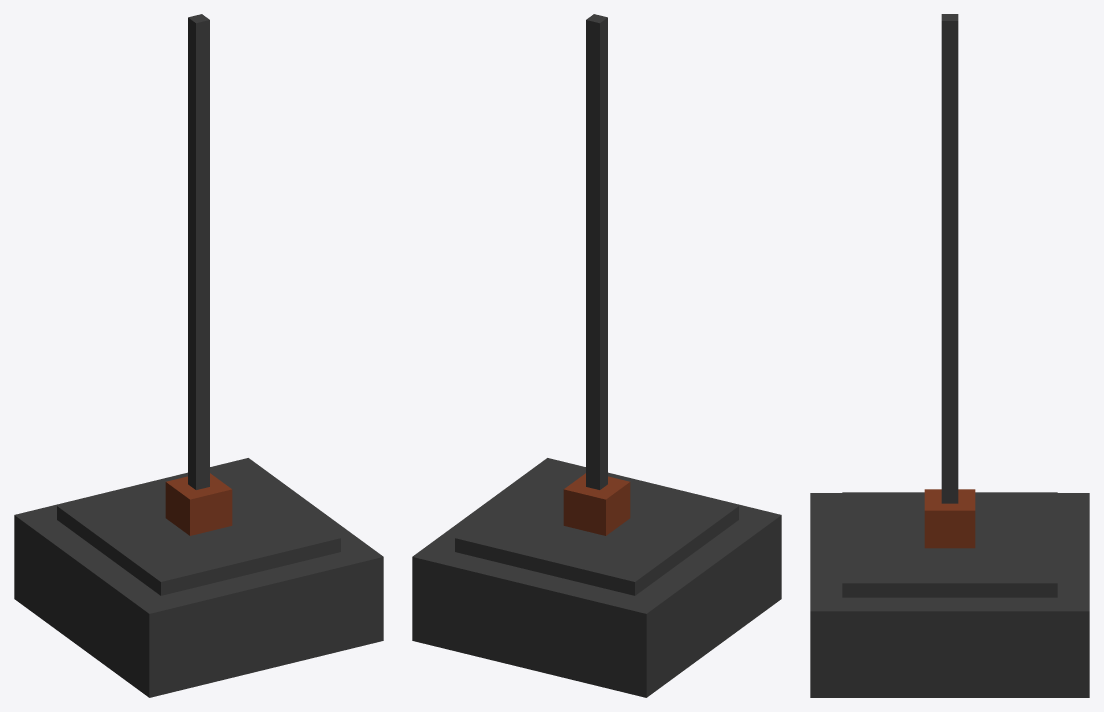
File: ceilingLamp.fbx
The picture shows the model from 3 angles, left to right: view 1: azimuth 30°, elevation 25°; view 2: azimuth 150°, elevation 25°; view 3: azimuth 270°, elevation 25°; orthographic projection. The views are drawn at different scales.
Visible parts, largest first — view 1: ceilingLamp1; view 2: ceilingLamp1; view 3: ceilingLamp1.
Part boxes in pixels (x1,y1,x2,y2): ceilingLamp1: (14, 14, 383, 697); ceilingLamp1: (412, 14, 781, 697); ceilingLamp1: (810, 14, 1089, 697).
Bounding box in the file's own units: 60 × 149 × 60.
